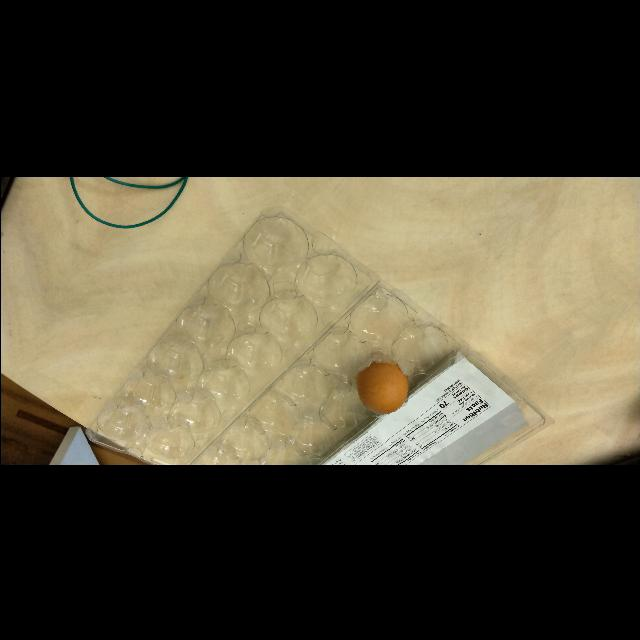Egg: (348, 354, 412, 418)
